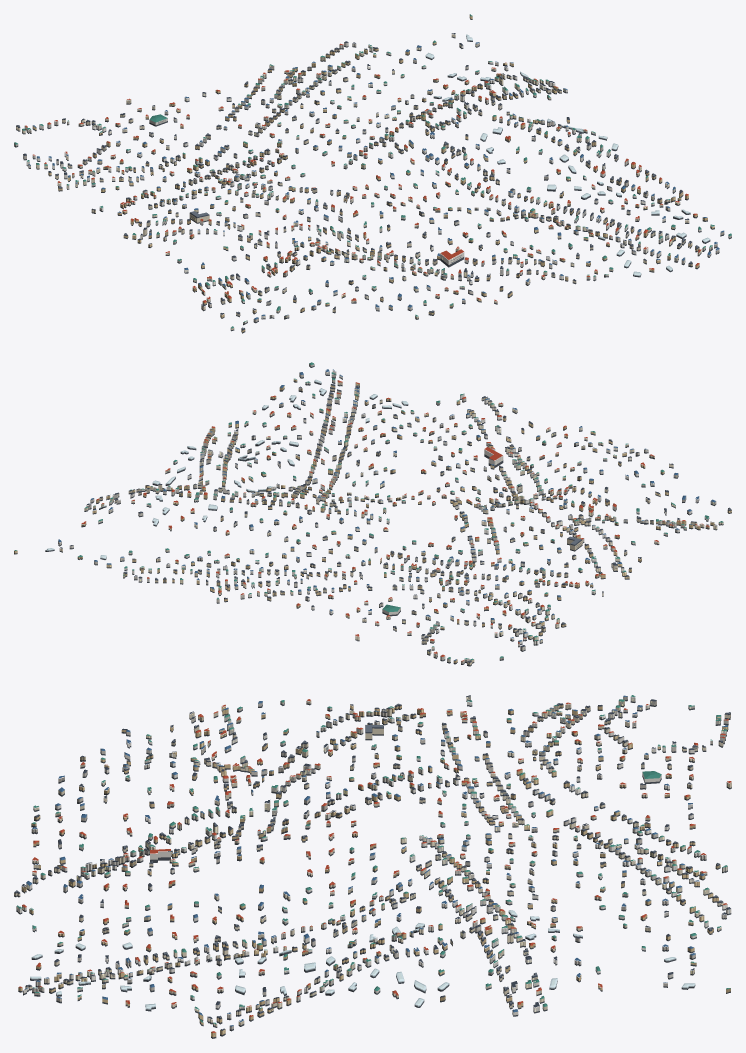
Rendered from osm_buildings_T_E01_N00.glb.
3 views of the same model, one above another, from view 1: azimuth 30°, elevation 25°; view 2: azimuth 150°, elevation 25°; view 3: azimuth 270°, elevation 25° (orthographic). The views are drawn at different scales.
Visible parts, largest first — view 1: OSM_T_E01_N00_foundation, OSM_T_E01_N00_wall_cream_stucco, OSM_T_E01_N00_wall_french_ochre, OSM_T_E01_N00_wall_warm_white, OSM_T_E01_N00_roof_mansard_slate, OSM_T_E01_N00_wall_pastel_sand, OSM_T_E01_N00_roof_terracotta, OSM_T_E01_N00_roof_mint_metal, OSM_T_E01_N00_roof_alpine_blue, OSM_T_E01_N00_greenhouse_blend, OSM_T_E01_N00_roof_mansard_deck; view 2: OSM_T_E01_N00_foundation, OSM_T_E01_N00_wall_cream_stucco, OSM_T_E01_N00_wall_french_ochre, OSM_T_E01_N00_wall_warm_white, OSM_T_E01_N00_wall_pastel_sand, OSM_T_E01_N00_roof_mansard_slate, OSM_T_E01_N00_roof_terracotta, OSM_T_E01_N00_roof_mint_metal, OSM_T_E01_N00_roof_alpine_blue, OSM_T_E01_N00_greenhouse_blend, OSM_T_E01_N00_roof_mansard_deck; view 3: OSM_T_E01_N00_foundation, OSM_T_E01_N00_wall_cream_stucco, OSM_T_E01_N00_wall_french_ochre, OSM_T_E01_N00_wall_warm_white, OSM_T_E01_N00_wall_pastel_sand, OSM_T_E01_N00_roof_mansard_slate, OSM_T_E01_N00_roof_mint_metal, OSM_T_E01_N00_roof_terracotta, OSM_T_E01_N00_roof_alpine_blue, OSM_T_E01_N00_greenhouse_blend, OSM_T_E01_N00_roof_mansard_deck.
Boxes of the visible parts, x1,y1,x2,y2 form: OSM_T_E01_N00_foundation: (14,17,731,333); OSM_T_E01_N00_wall_cream_stucco: (16,34,701,329); OSM_T_E01_N00_wall_french_ochre: (32,15,714,332); OSM_T_E01_N00_wall_warm_white: (26,42,719,323); OSM_T_E01_N00_roof_mansard_slate: (16,33,699,330); OSM_T_E01_N00_wall_pastel_sand: (14,43,731,322); OSM_T_E01_N00_roof_terracotta: (25,43,701,302); OSM_T_E01_N00_roof_mint_metal: (14,14,731,328); OSM_T_E01_N00_roof_alpine_blue: (28,42,723,319); OSM_T_E01_N00_greenhouse_blend: (425,34,710,276); OSM_T_E01_N00_roof_mansard_deck: (17,47,698,329); OSM_T_E01_N00_foundation: (14,365,731,666); OSM_T_E01_N00_wall_cream_stucco: (59,382,723,665); OSM_T_E01_N00_wall_french_ochre: (14,379,731,663); OSM_T_E01_N00_wall_warm_white: (69,370,709,662); OSM_T_E01_N00_wall_pastel_sand: (58,364,716,663); OSM_T_E01_N00_roof_mansard_slate: (60,384,731,662); OSM_T_E01_N00_roof_terracotta: (81,380,709,661); OSM_T_E01_N00_roof_mint_metal: (14,362,723,660); OSM_T_E01_N00_roof_alpine_blue: (58,369,715,660); OSM_T_E01_N00_greenhouse_blend: (45,379,408,558); OSM_T_E01_N00_roof_mansard_deck: (101,384,730,661); OSM_T_E01_N00_foundation: (14,699,731,1038); OSM_T_E01_N00_wall_cream_stucco: (14,696,731,1026); OSM_T_E01_N00_wall_french_ochre: (18,704,730,1037); OSM_T_E01_N00_wall_warm_white: (16,697,731,1015); OSM_T_E01_N00_wall_pastel_sand: (22,696,728,1029); OSM_T_E01_N00_roof_mansard_slate: (14,695,730,1030); OSM_T_E01_N00_roof_mint_metal: (17,695,730,1024); OSM_T_E01_N00_roof_terracotta: (19,699,731,1032); OSM_T_E01_N00_roof_alpine_blue: (24,695,727,1026); OSM_T_E01_N00_greenhouse_blend: (30,910,695,1009); OSM_T_E01_N00_roof_mansard_deck: (15,695,730,1017).
Size of the model in its own units: 1962 by 197 by 1976.
